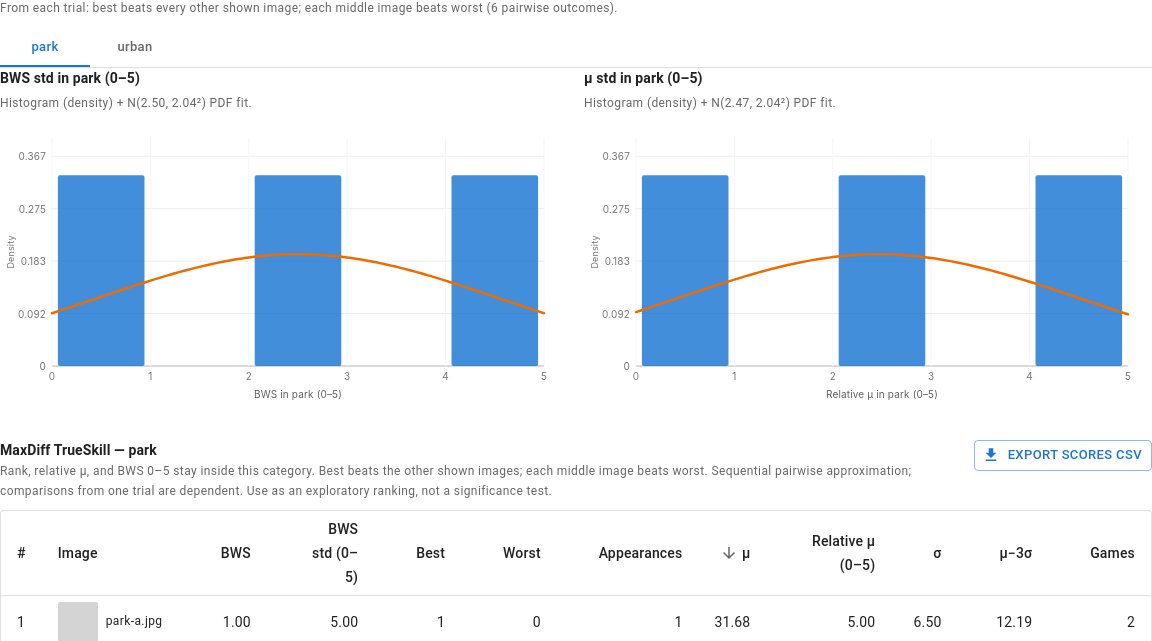
Test: MaxDiff one-category trials use one board per category
Check: the tab "park" is shown, box [0,27,90,67]
Check: the table shows "park-a.jpg", box [106,614,162,628]
Click the tab "urban" at (135, 47), box [90,27,180,67]
(page scrolled)
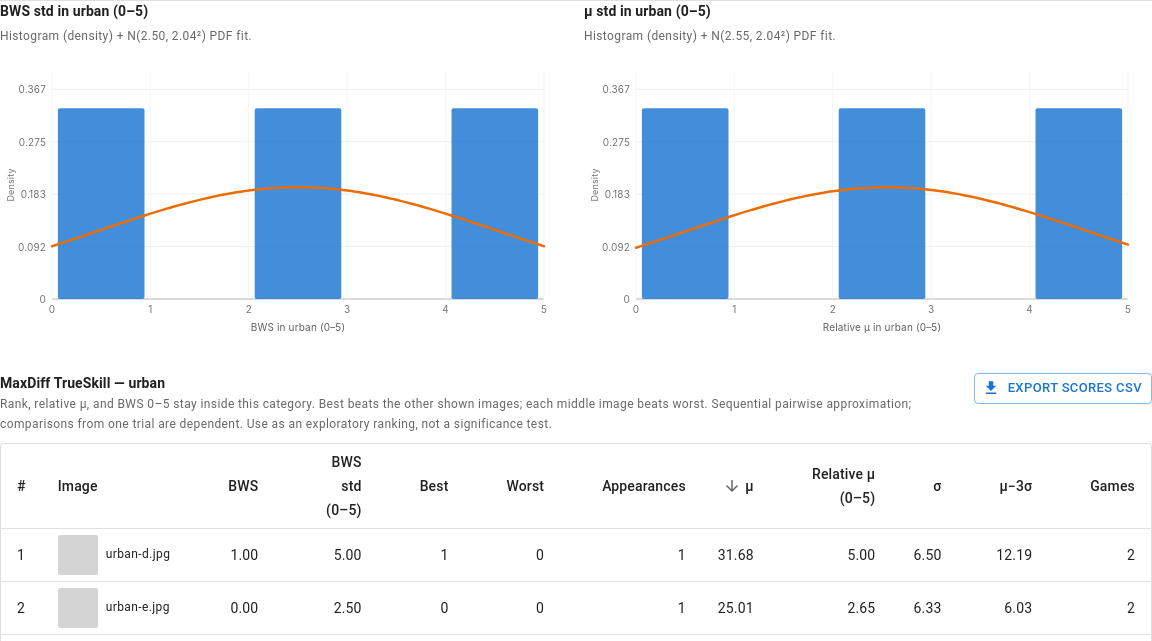
Check: the table shows "urban-d.jpg", box [106,547,170,561]
Check: the text "park-a.jpg" is gone
